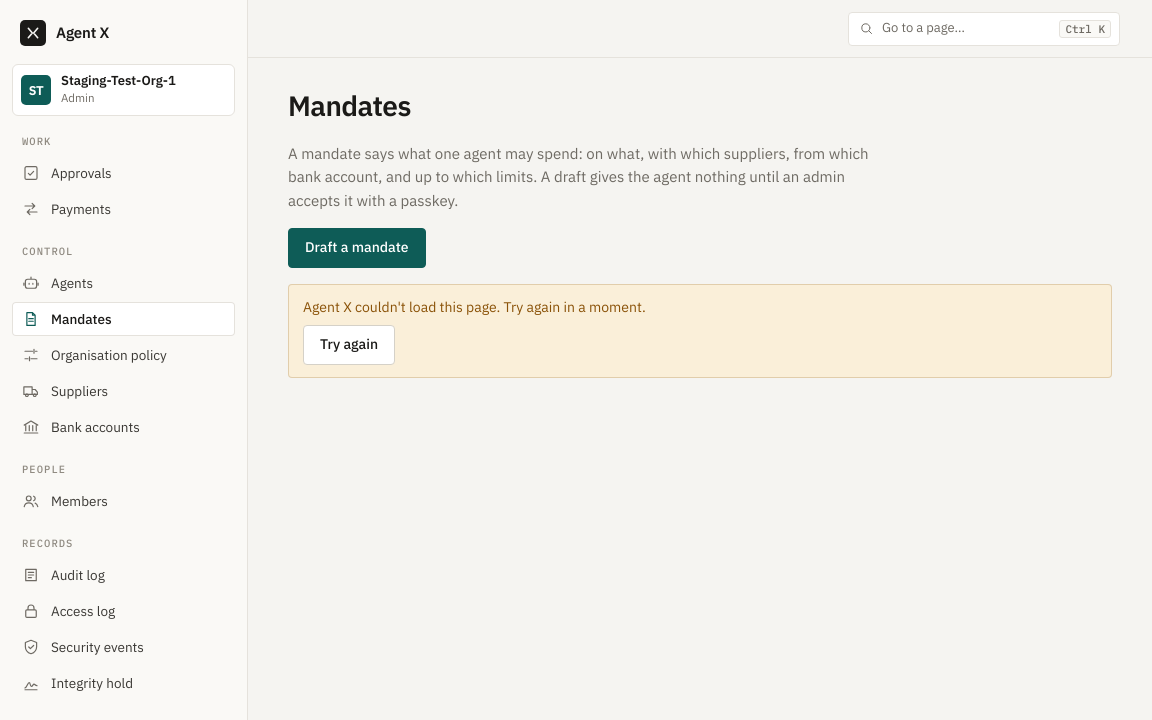
it: the mandates list › says an empty list plainly, and a list that failed with a retry
Click the button "Try again".
click(349, 345)  # box [303,325,395,365]
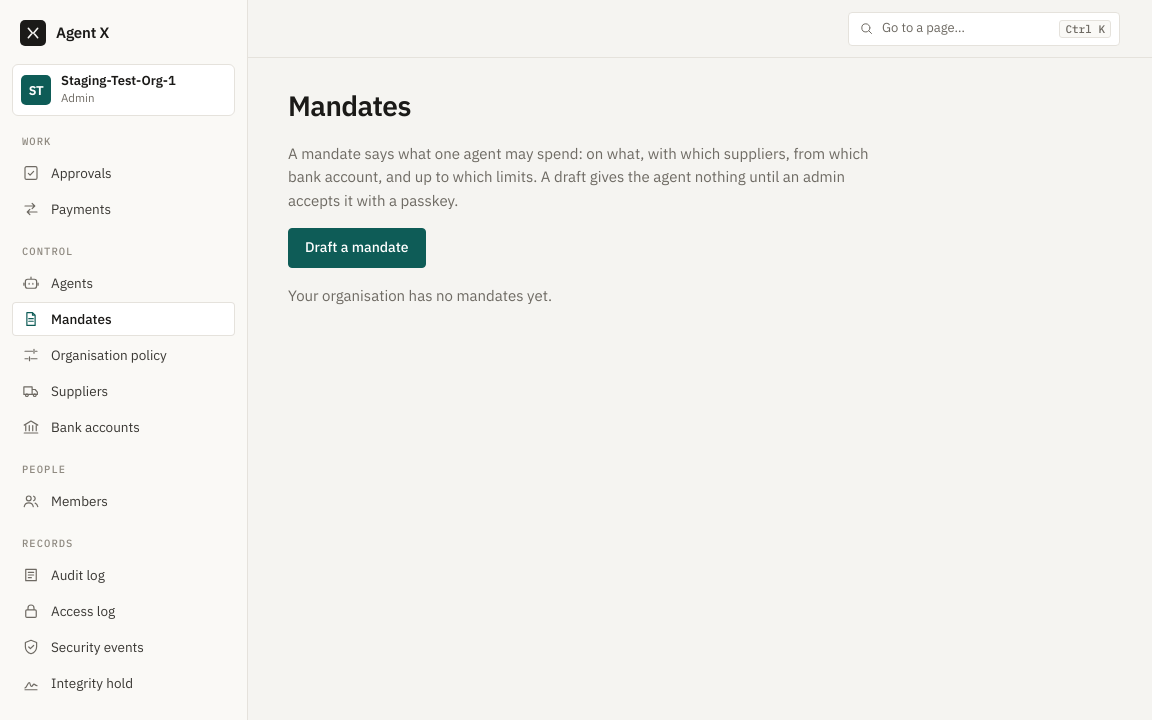
Check: the text "Your organisation has no mandates yet." is shown, box [288,286,552,305]
